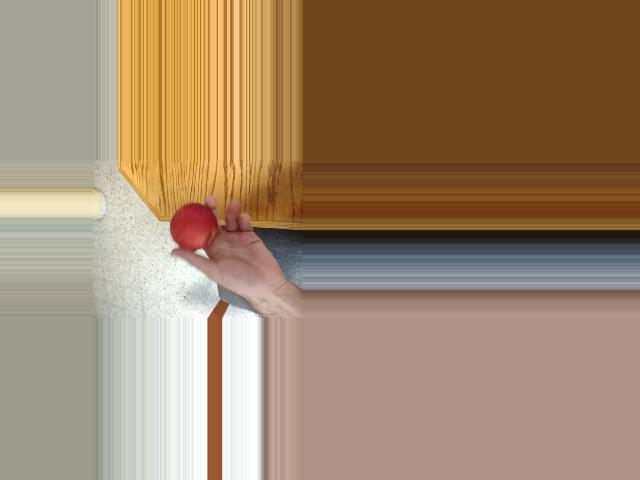apple: (166, 203, 217, 257)
